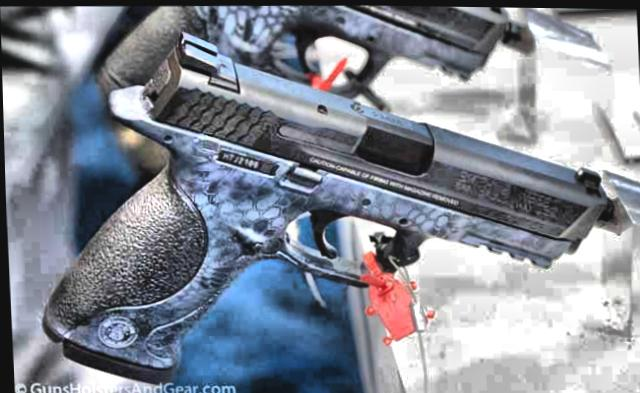pistol: (23, 19, 628, 366)
